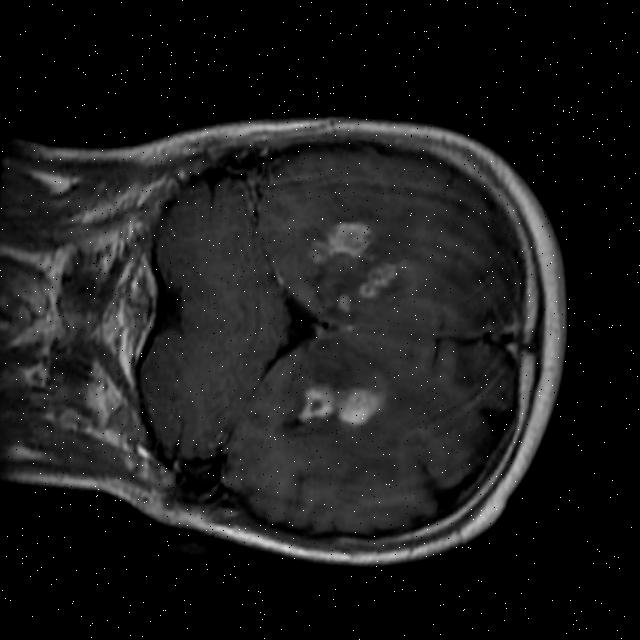Glioma: (297, 379, 387, 429), (306, 215, 376, 268), (357, 259, 401, 302), (336, 289, 352, 316)
